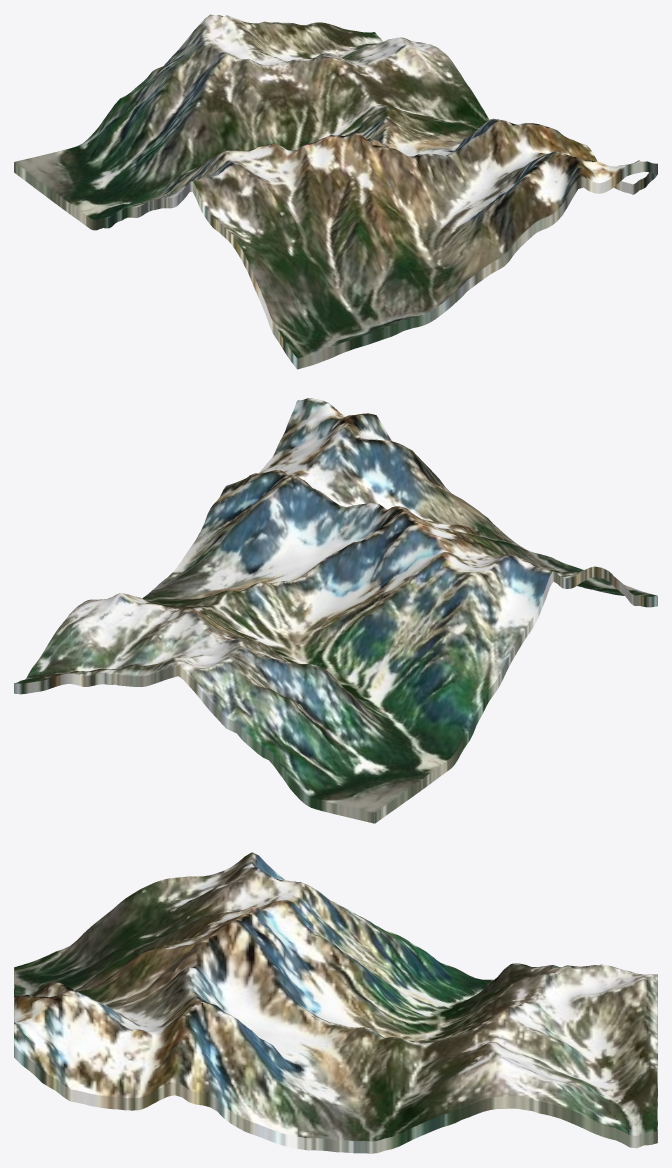
The picture shows the model from 3 angles, top to bottom: view 1: azimuth 30°, elevation 25°; view 2: azimuth 150°, elevation 25°; view 3: azimuth 270°, elevation 25°; orthographic projection. The views are drawn at different scales.
Visible parts, largest first — view 1: tile; view 2: tile; view 3: tile.
Boxes of the visible parts, x1,y1,x2,y2 form: tile: (14, 14, 657, 369); tile: (14, 398, 657, 823); tile: (14, 852, 657, 1153).
Bounding box in the file's own units: 4050 × 1506 × 5505.
Materials: 1 (1 with a texture image).
